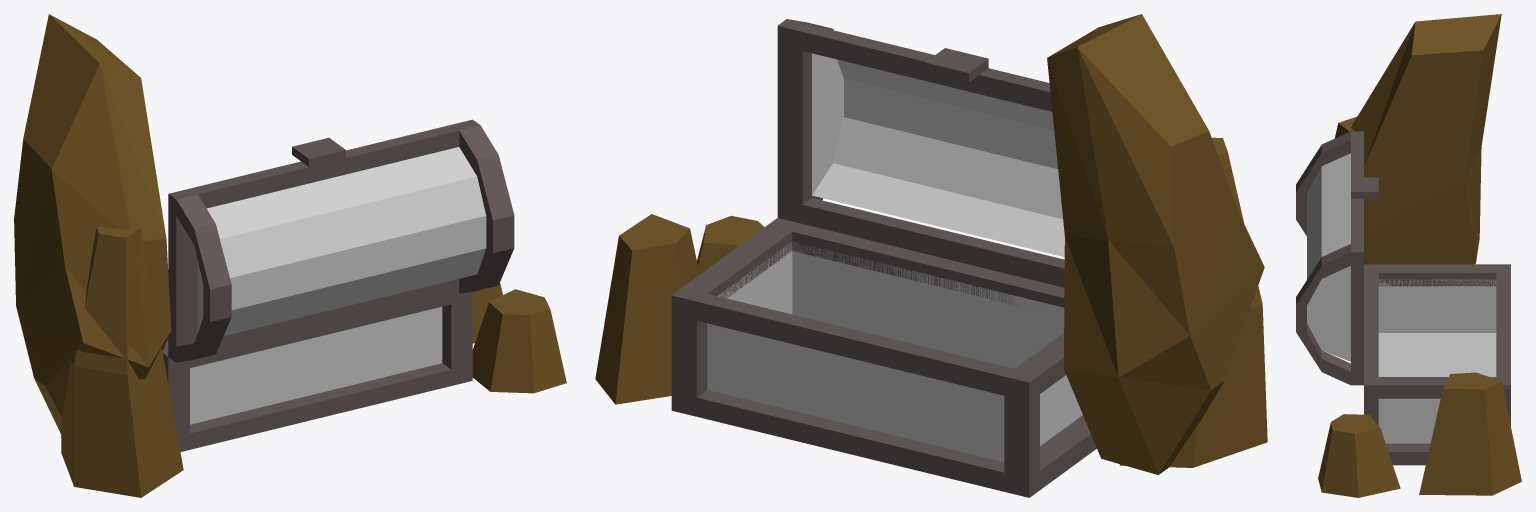
Rendered from chompybird_ogre_chest_open_8.obj.
The picture shows the model from 3 angles, left to right: view 1: azimuth 30°, elevation 25°; view 2: azimuth 150°, elevation 25°; view 3: azimuth 270°, elevation 25°; orthographic projection. The views are drawn at different scales.
Parts seen in each view (by area): view 1: 3449; view 2: 3449; view 3: 3449.
Part boxes in pixels (x1,y1,x2,y2): 3449: (14, 14, 566, 497); 3449: (595, 14, 1267, 497); 3449: (1296, 14, 1521, 497).
Size of the model in its own units: 251 by 190 by 123.
